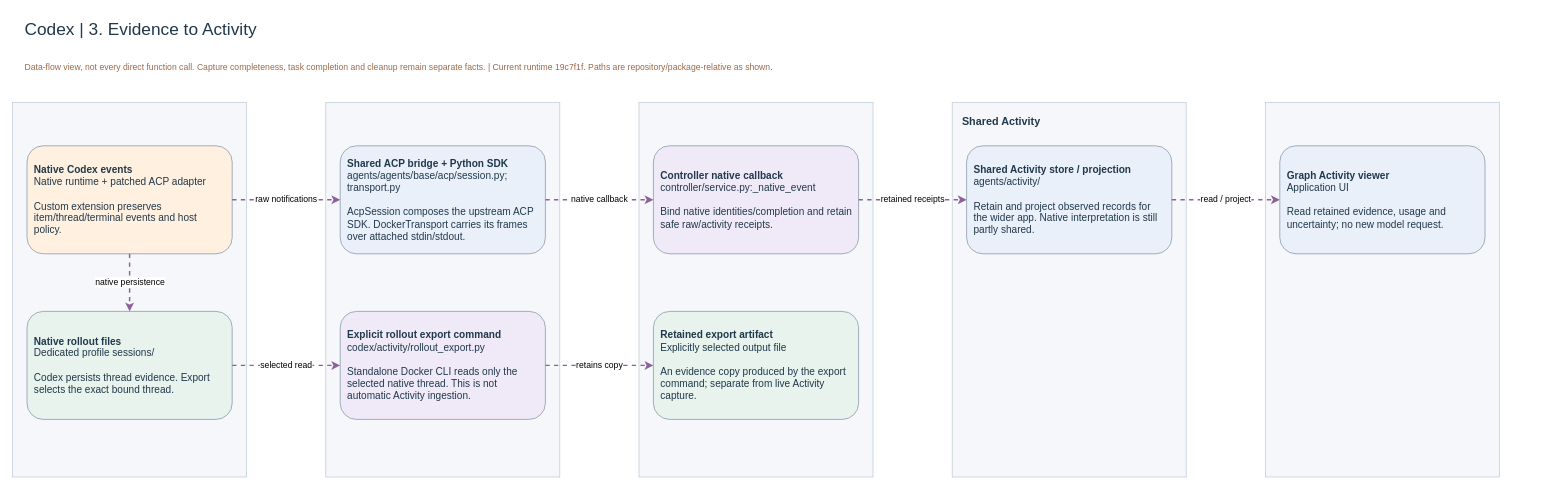
The diagram is 1559 pixels wide and 490 high, and some of its shapes have lost their labels. Here are the shapes that lost their labels. From the top down, the box of each, then its label:
(12, 102, 247, 477): Native sources
(325, 102, 560, 477): Shared wire / explicit export
(638, 102, 873, 477): Provider capture / selected output
(1265, 102, 1499, 477): Wider application
